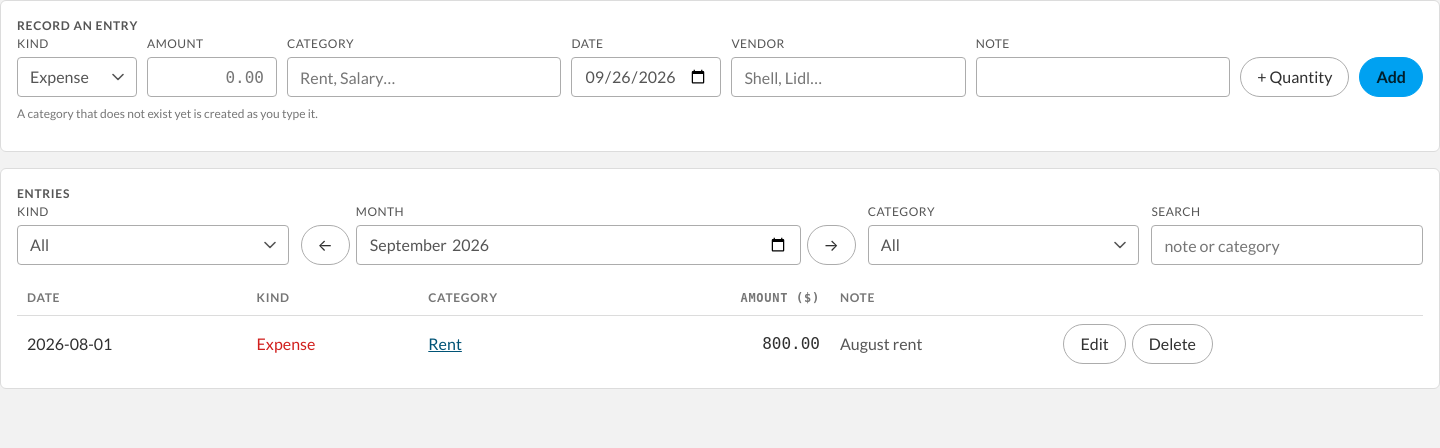
Test: EntriesPage › shows the server's explanation when a delete is refused
Expected: the table named "Entries" is shown, [17, 281, 1423, 372]
Click the button with aria-label "Delete entry" at (1172, 344), box [1132, 324, 1213, 364]
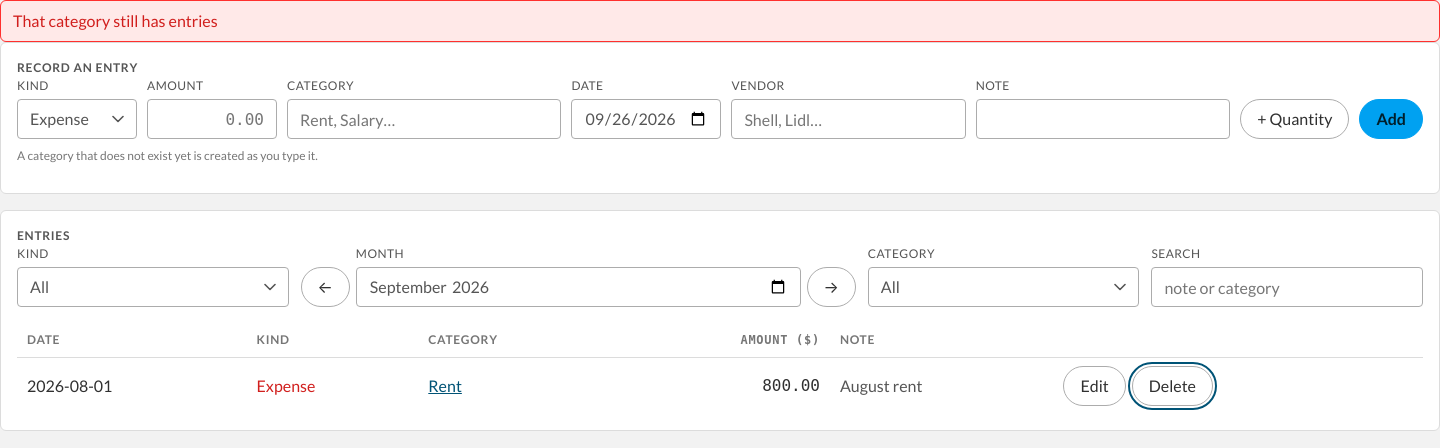
Expected: the message reads "That category still has entries", [13, 11, 218, 30]
